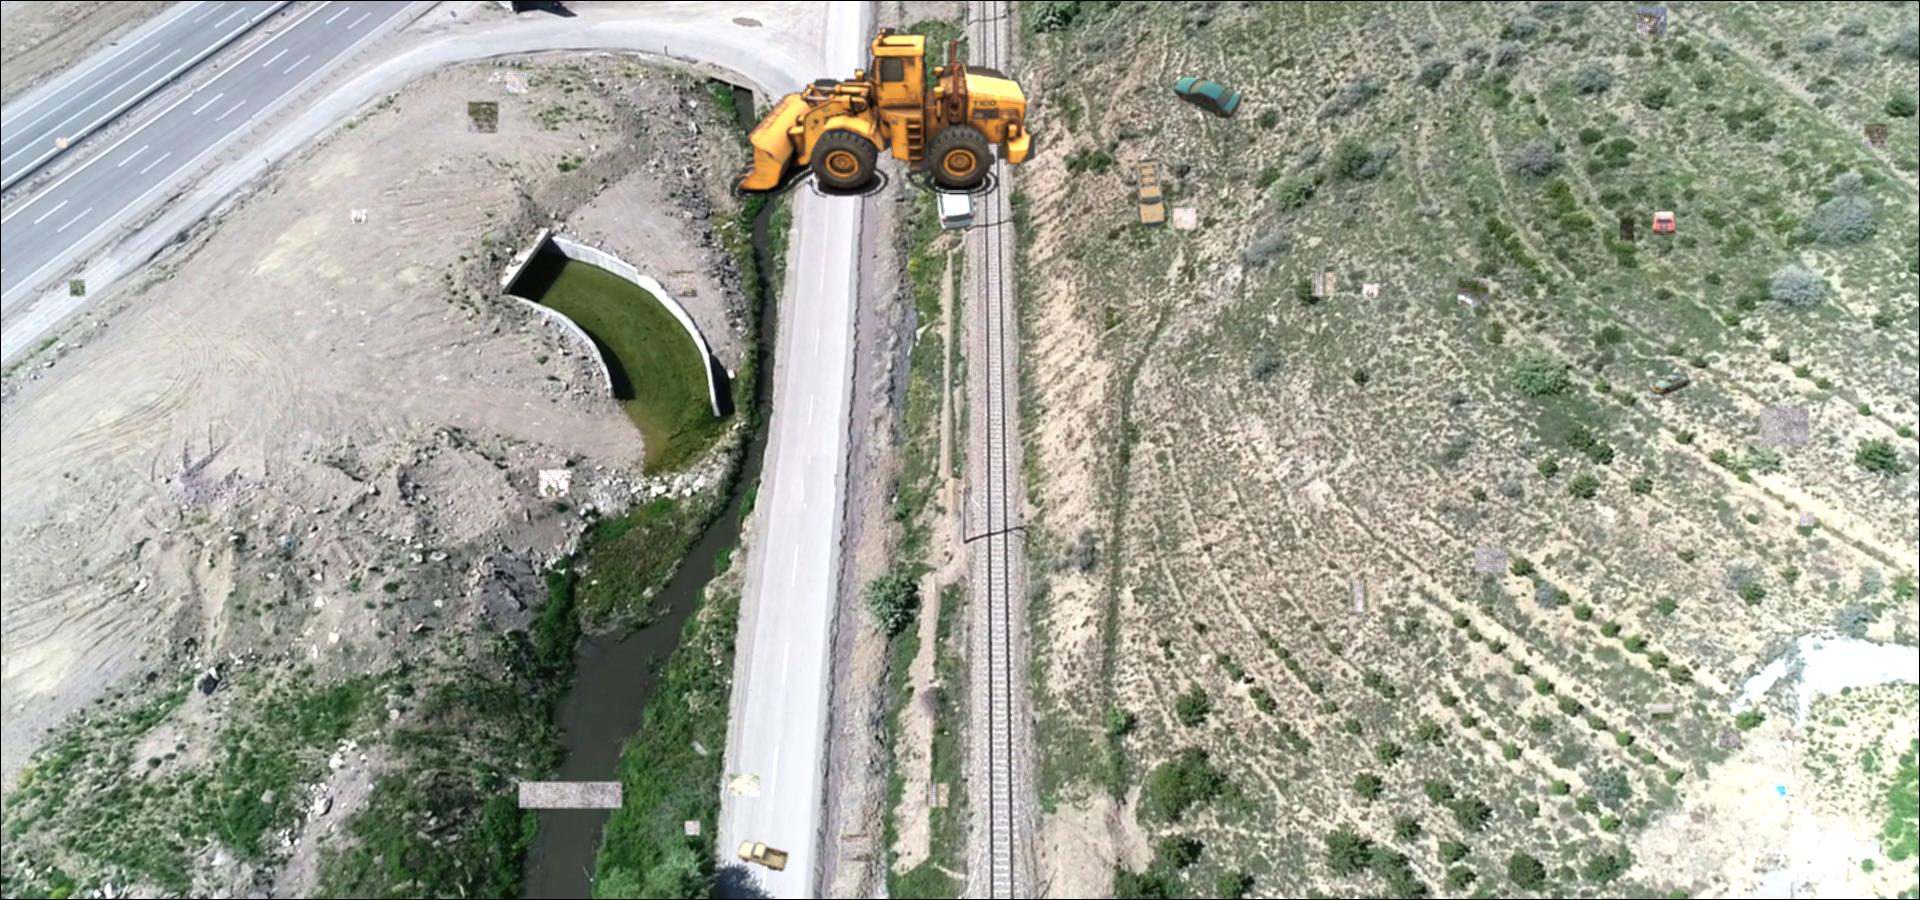arac: (730, 28, 1042, 197), (931, 144, 976, 231), (1172, 75, 1240, 119), (1131, 159, 1167, 227), (738, 840, 789, 872), (1653, 373, 1690, 396), (1651, 211, 1676, 234)
